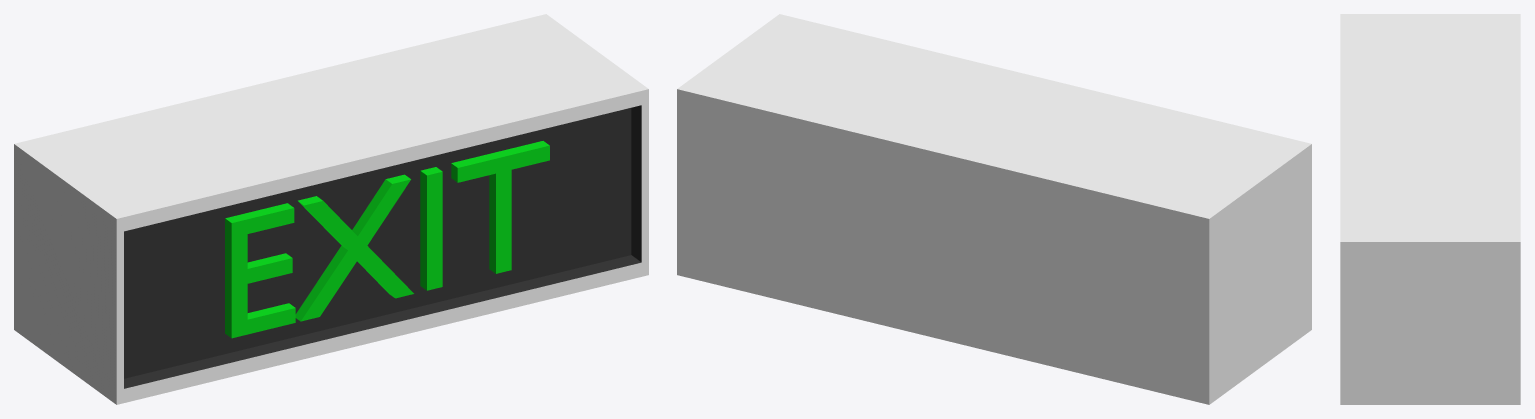
The model's file is Exit.fbx.
3 renders of one model, left to right at view 1: azimuth 30°, elevation 25°; view 2: azimuth 150°, elevation 25°; view 3: azimuth 270°, elevation 25°, orthographic. The views are drawn at different scales.
Visible parts, largest first — view 1: Exit; view 2: Exit; view 3: Exit.
Part boxes in pixels (bbox=[...]): Exit: bbox=[14, 14, 648, 404]; Exit: bbox=[677, 14, 1311, 404]; Exit: bbox=[1340, 14, 1520, 404].
Bounding box in the file's own units: 599 × 200 × 200.
